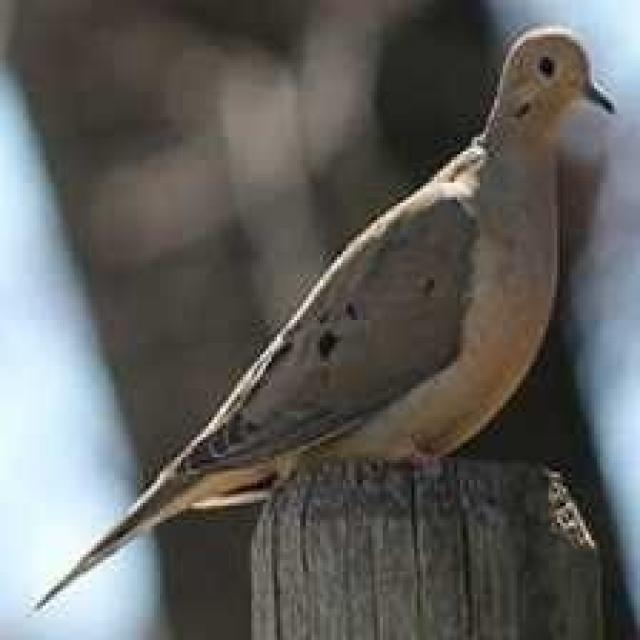bird: (35, 21, 622, 618)
